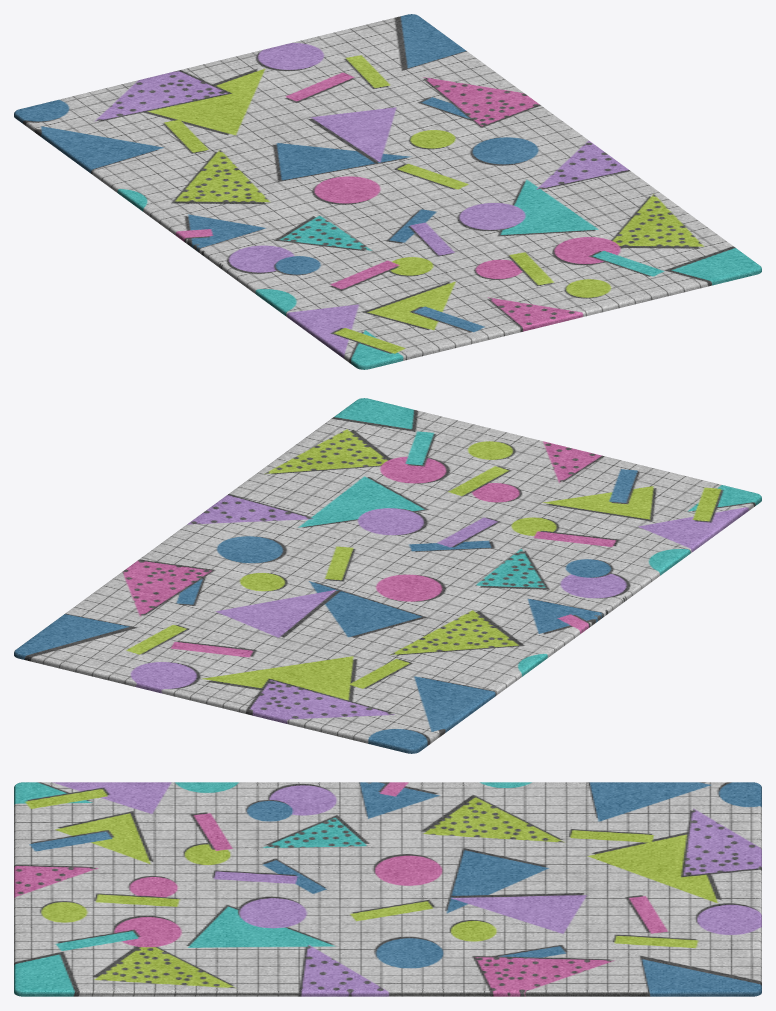
The model's file is video_store_carpet_small.obj.
3 views of the same model, one above another, from view 1: azimuth 30°, elevation 25°; view 2: azimuth 150°, elevation 25°; view 3: azimuth 270°, elevation 25° (orthographic). The views are drawn at different scales.
Visible parts, largest first — view 1: Mesh1_Group1_Model; view 2: Mesh1_Group1_Model; view 3: Mesh1_Group1_Model.
Boxes of the visible parts, x1=… form: Mesh1_Group1_Model: x1=14, y1=14, x2=761, y2=369; Mesh1_Group1_Model: x1=14, y1=398, x2=761, y2=753; Mesh1_Group1_Model: x1=14, y1=782, x2=761, y2=996.
Bounding box in the file's own units: 1 × 0.01 × 1.5.
Materials: 1 (1 with a texture image).
